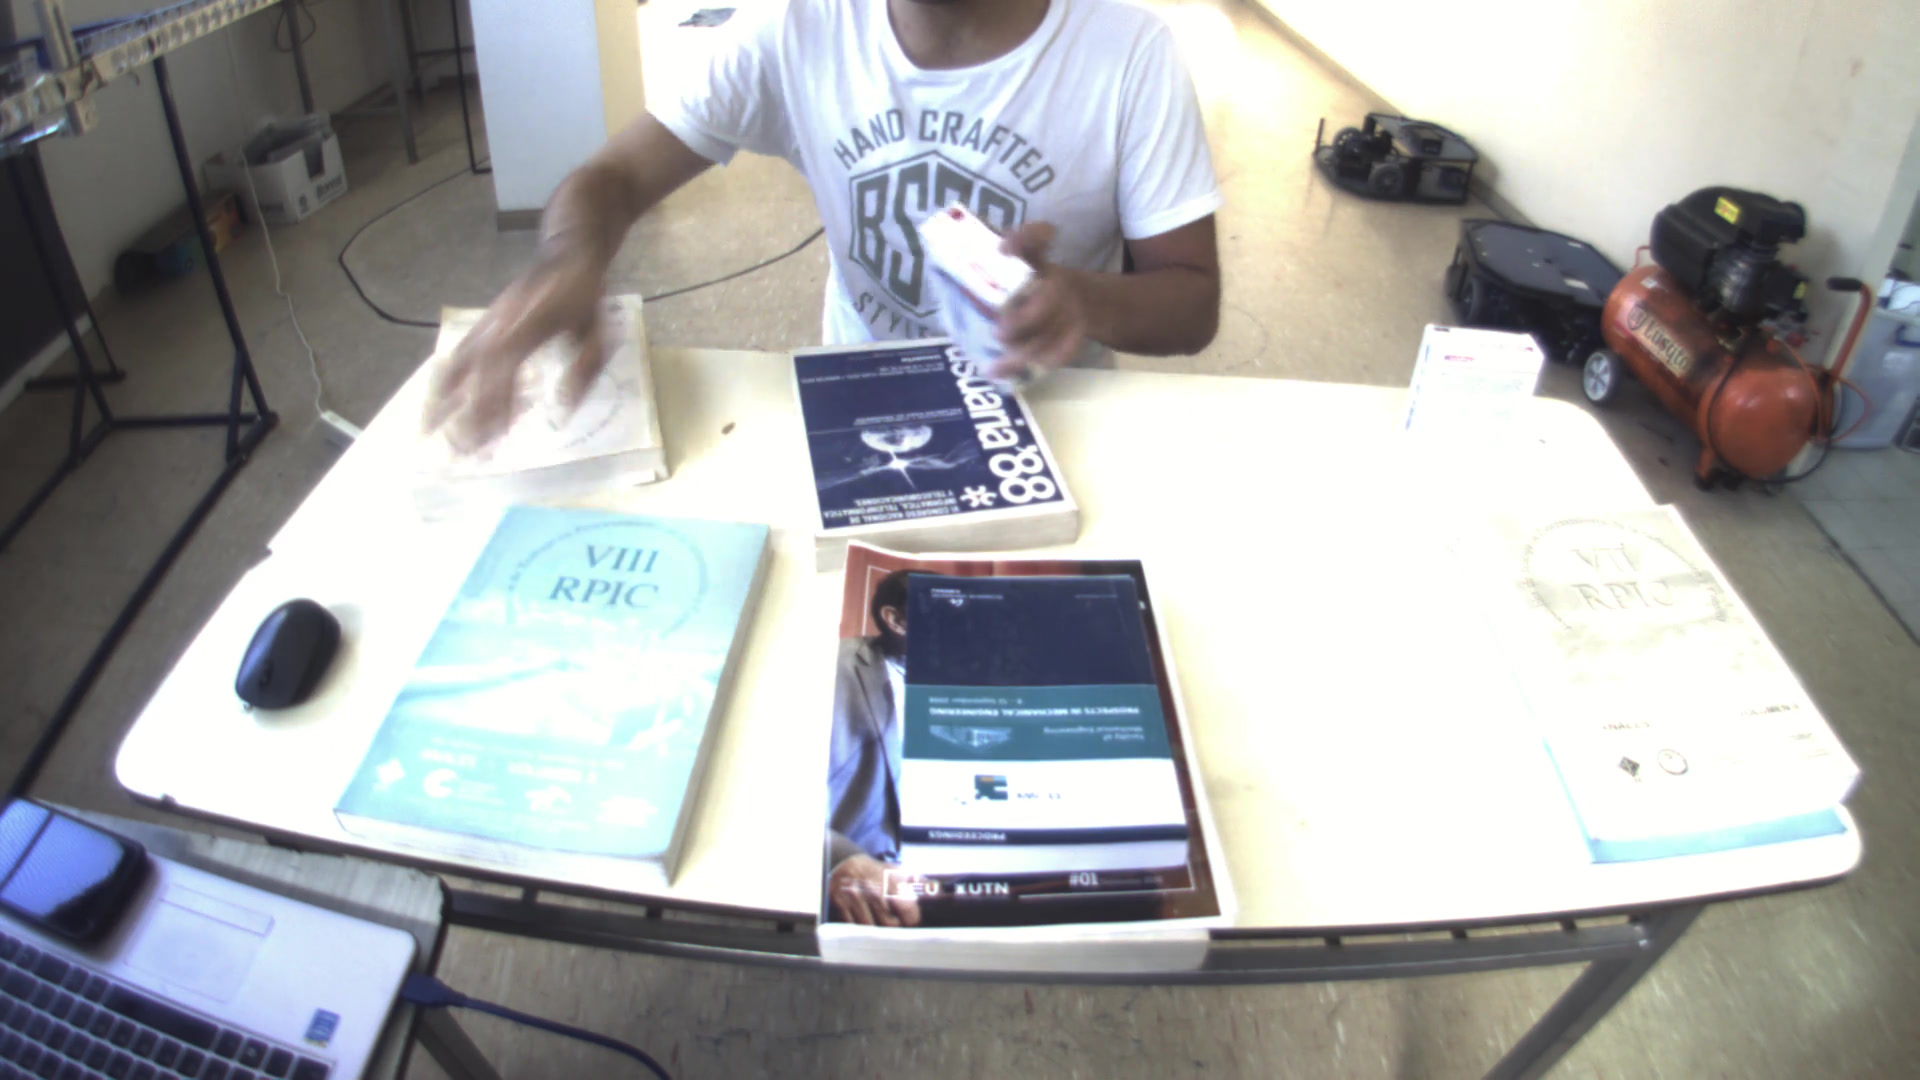hand: (417, 253, 611, 451), (961, 219, 1095, 384)
